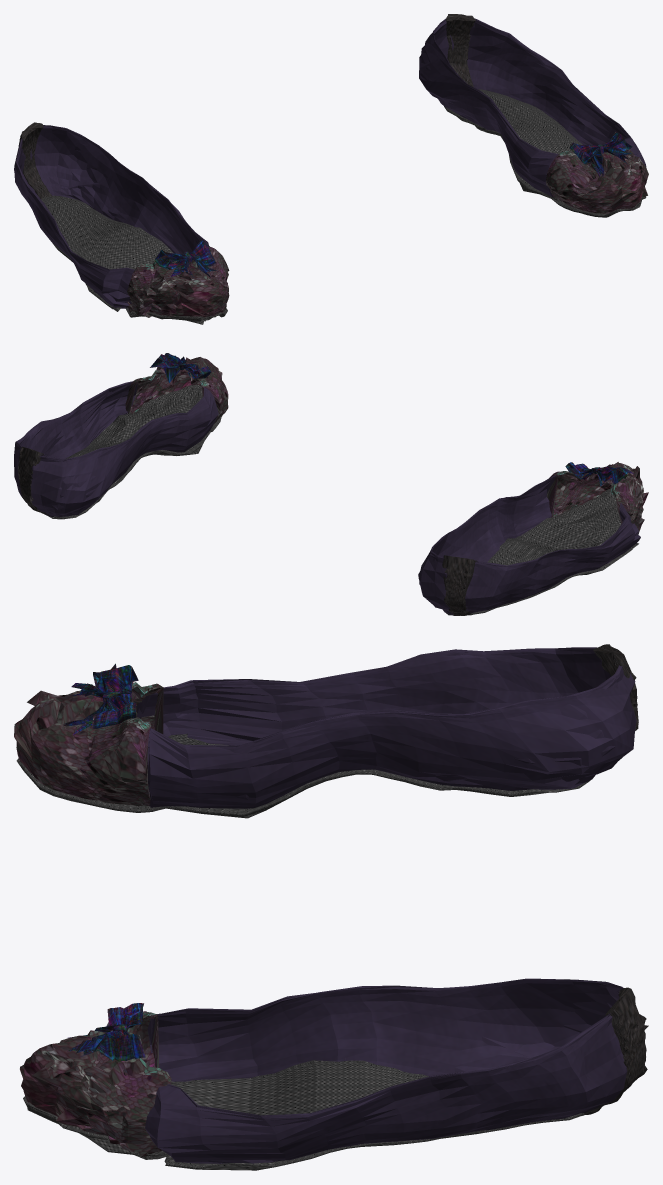
File: mhw_elvs_flatshoe_bow1.glb
3 views of the same model, one above another, from view 1: azimuth 30°, elevation 25°; view 2: azimuth 150°, elevation 25°; view 3: azimuth 270°, elevation 25° (orthographic). The views are drawn at different scales.
Visible parts, largest first — view 1: mhw_elvs_flatshoe_bow1; view 2: mhw_elvs_flatshoe_bow1; view 3: mhw_elvs_flatshoe_bow1.
Boxes of the visible parts, box(x1,y1,x2,y2) form: mhw_elvs_flatshoe_bow1: box(14, 14, 648, 324); mhw_elvs_flatshoe_bow1: box(14, 353, 648, 615); mhw_elvs_flatshoe_bow1: box(14, 644, 648, 1170).
Bounding box in the file's own units: 0.5417 × 0.0846 × 0.3264.
1 material, 1 textured.
